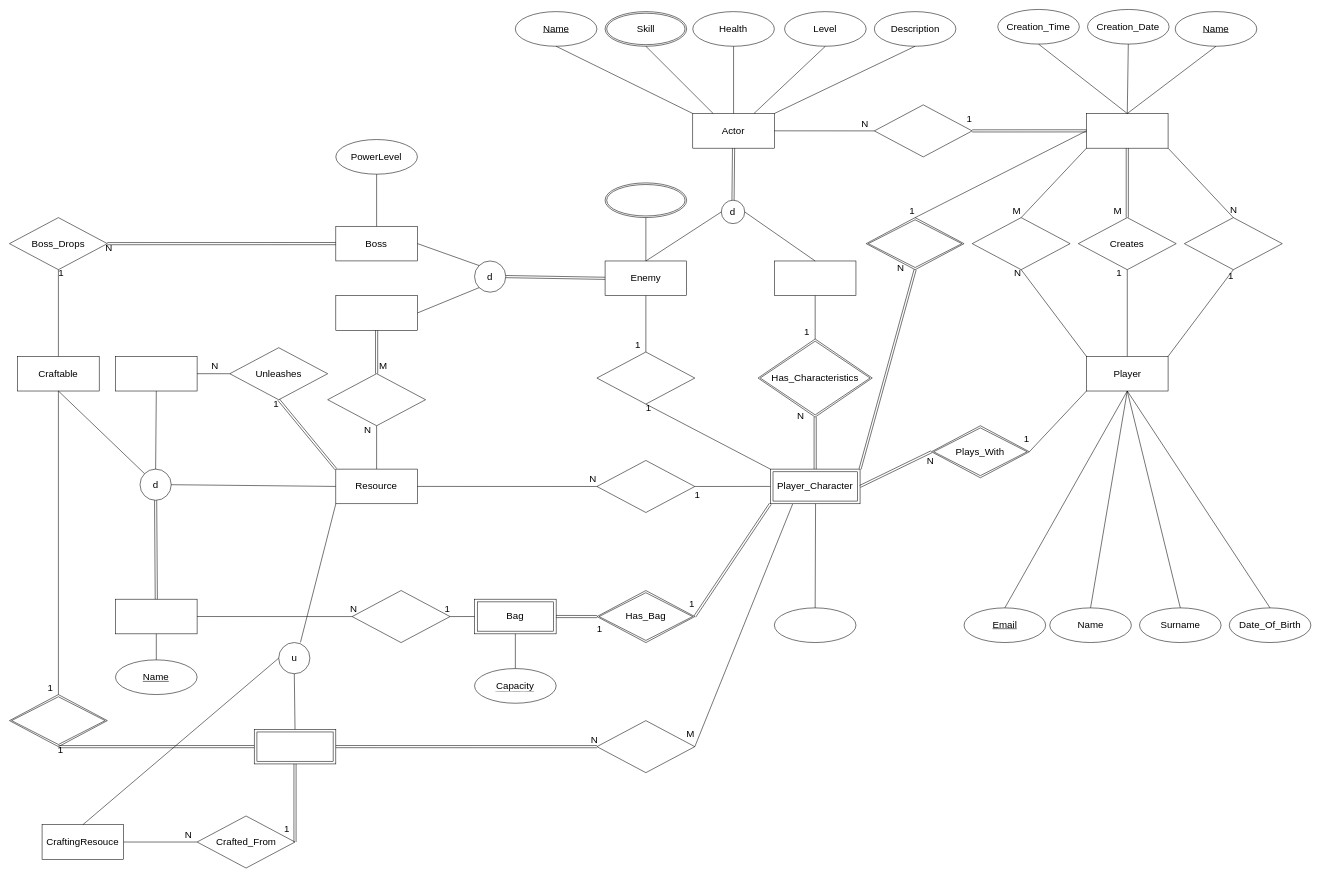
Some shapes in this 1320 by 878 pixel diagram are drawn without their labels. The shapes that lost their labels are listed below. From the top down, each one's box as (x1, y1, x2, y2) in pixels, then its label:
(874, 104, 972, 157): Has_Actors
(1086, 113, 1168, 148): World
(605, 182, 687, 218): Region
(866, 217, 964, 270): Created_For
(972, 217, 1070, 270): Plays_On
(1184, 217, 1282, 270): Won_By
(774, 260, 856, 296): Character
(335, 295, 417, 330): Minion
(115, 356, 197, 391): Artifacts
(596, 351, 695, 404): Killed_By
(327, 373, 426, 426): Minion_Drops
(596, 460, 695, 513): Unlocks
(115, 599, 197, 634): Item
(352, 590, 450, 643): Caries
(774, 607, 856, 643): Character_No
(9, 694, 107, 747): Crafted
(254, 729, 336, 764): Crafted_Item
(596, 720, 695, 773): Crafts
